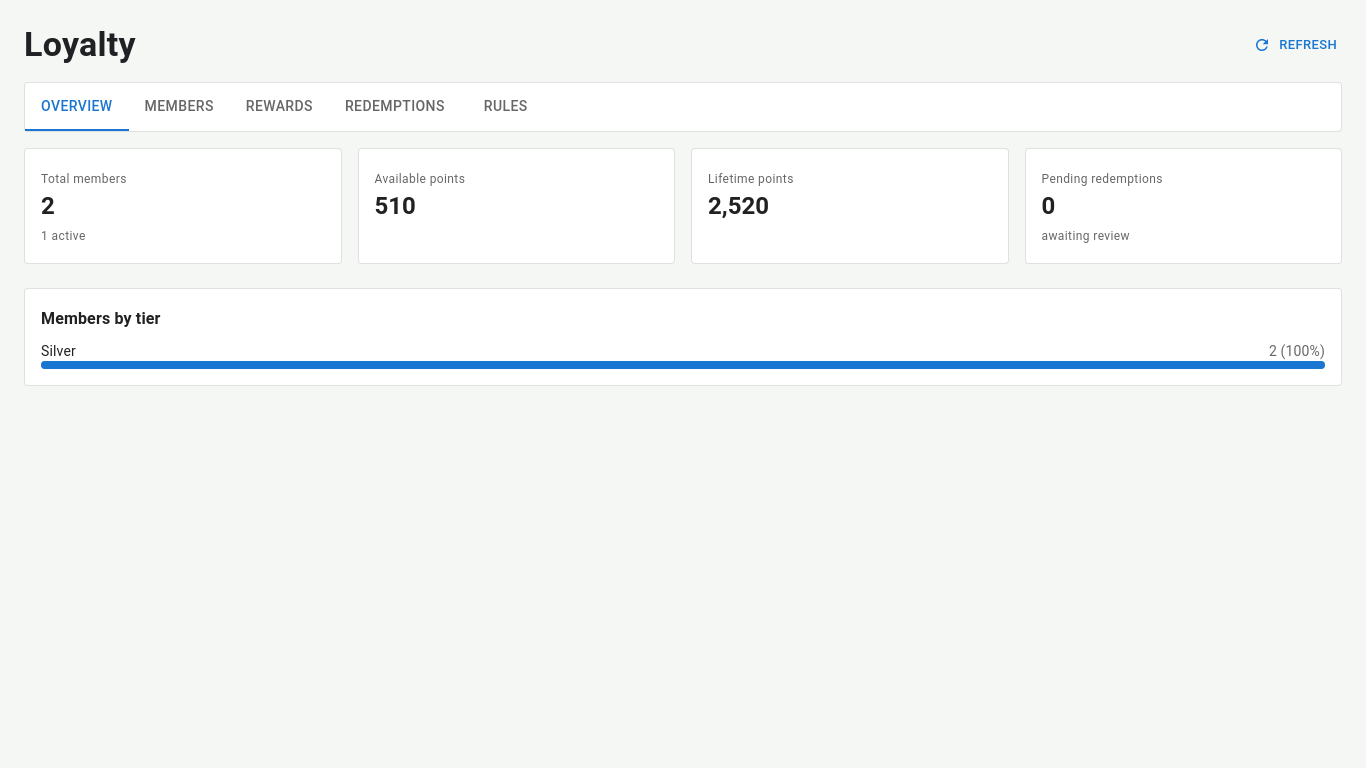
Test: LoyaltyPortal › lists members and opens the detail dialog from a row
Click the tab "Members". click: (179, 107)
box: [129,83,230,131]
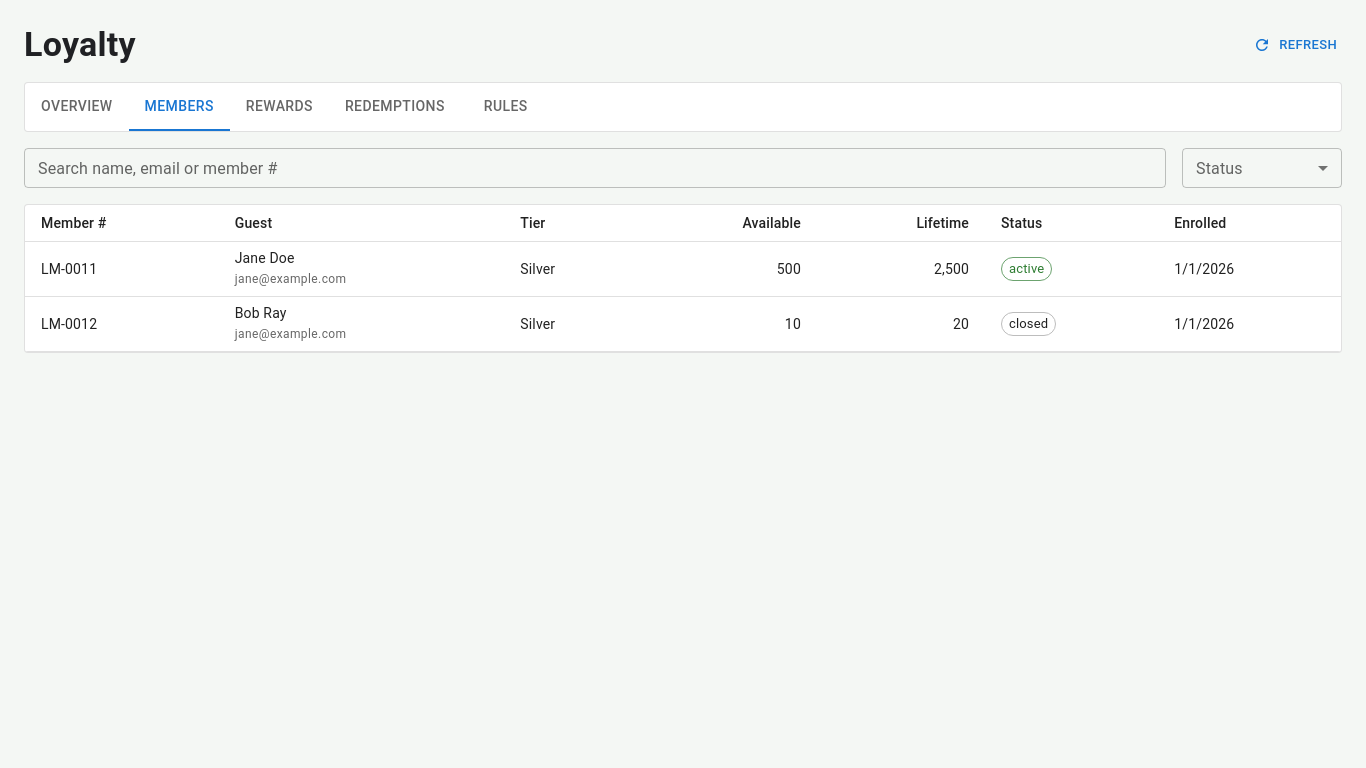
Now the text "LM-0011" is shown, box [25,242,219,296]
Now the text "LM-0012" is shown, box [25,296,219,351]
Click the text "Jane Doe". click: (265, 258)
box: [235,250,294,266]
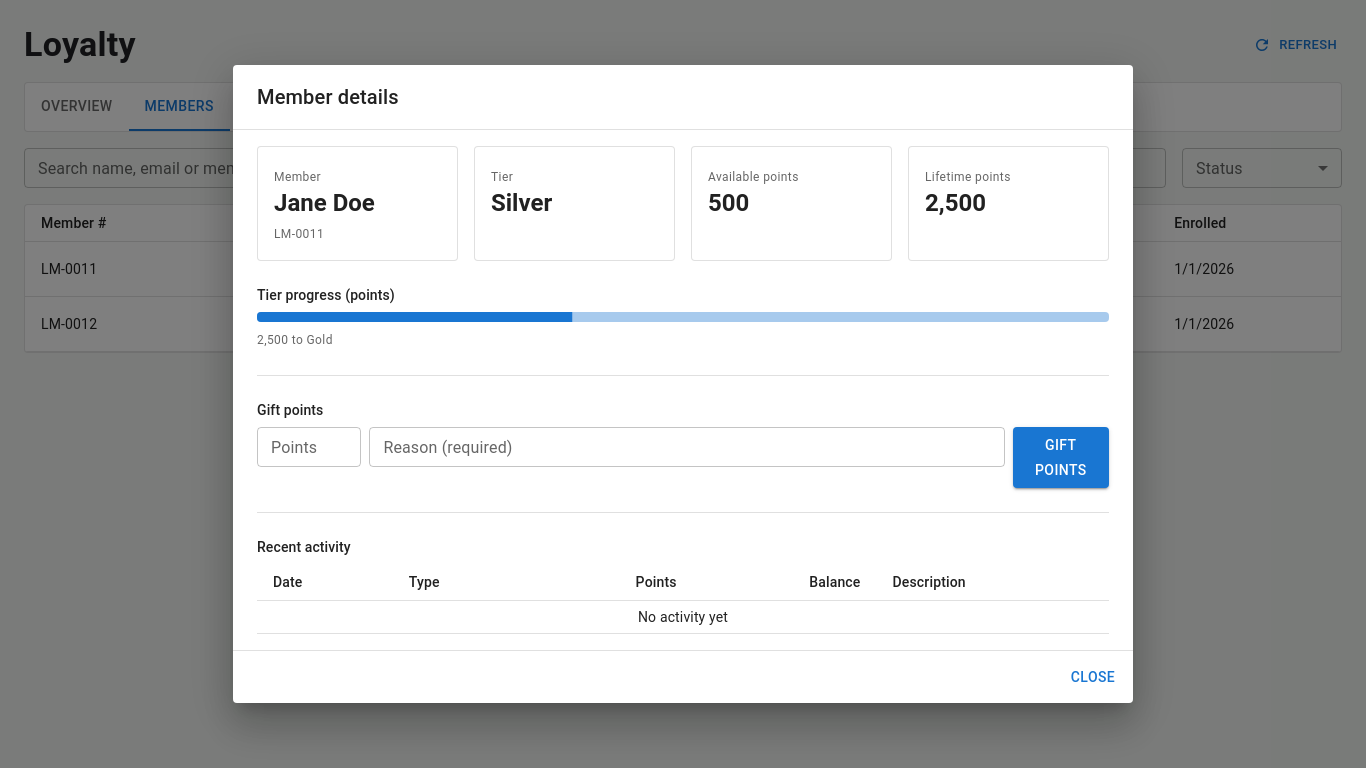
Now the heading "Member details" is shown, box [257,85,399,109]
Now the heading "Jane Doe" is shown, box [274,190,375,218]
